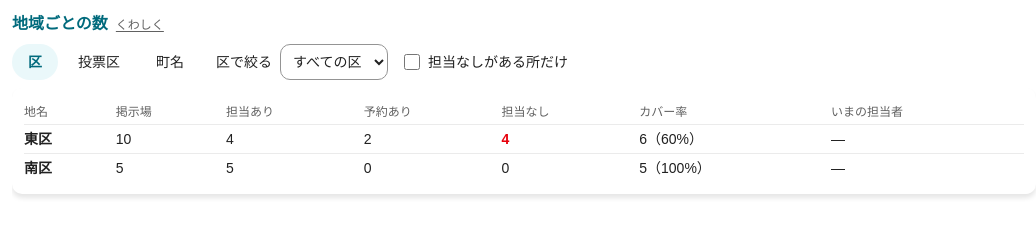
Scenario: 区で絞れる
Click the button "町名" at (170, 62), box [140,44,200,80]
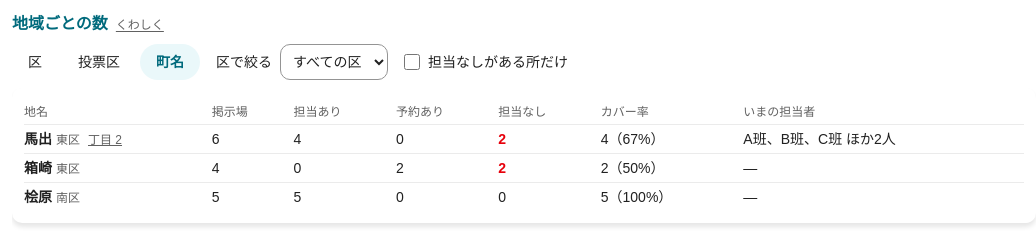
Select "南区" in the dropdown labelled "区で絞る" at (334, 62), box [280,44,388,80]
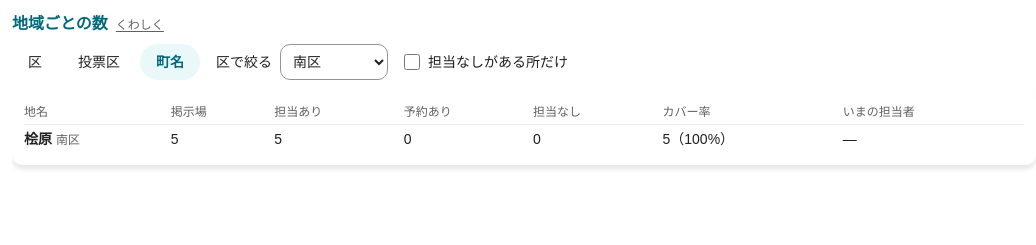
Result: the button "桧原" is shown at [24,129,52,149]
Result: the button "箱崎" is gone
